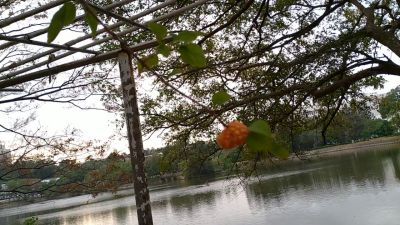eggs: (214, 119, 249, 150)
